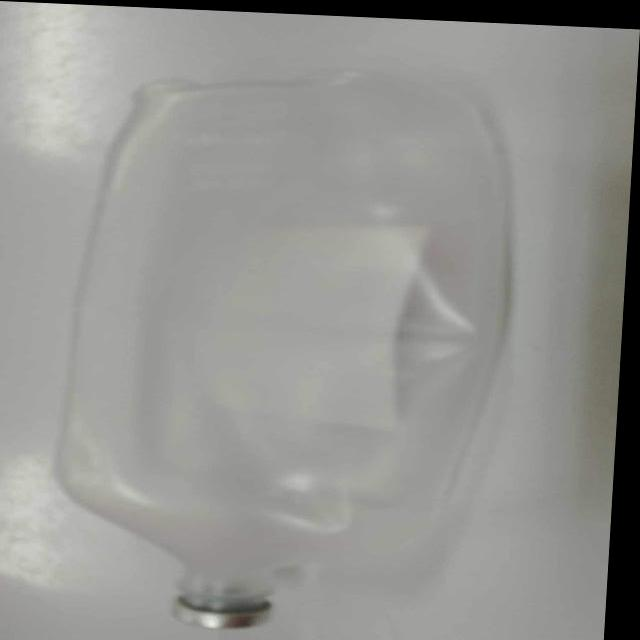General: (49, 67, 515, 630)
